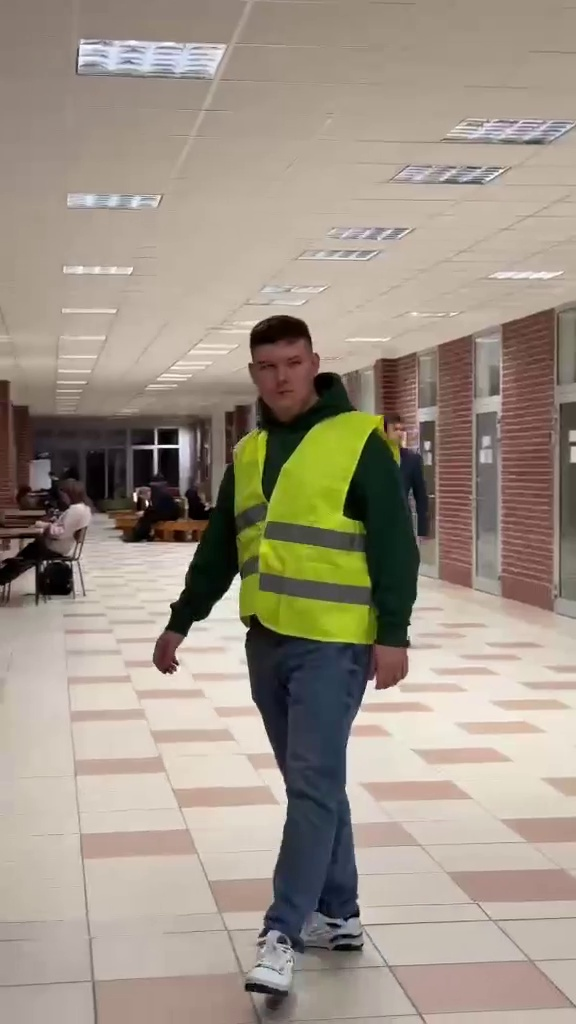no vest: (8, 475, 98, 590)
vest: (146, 324, 430, 1001)
